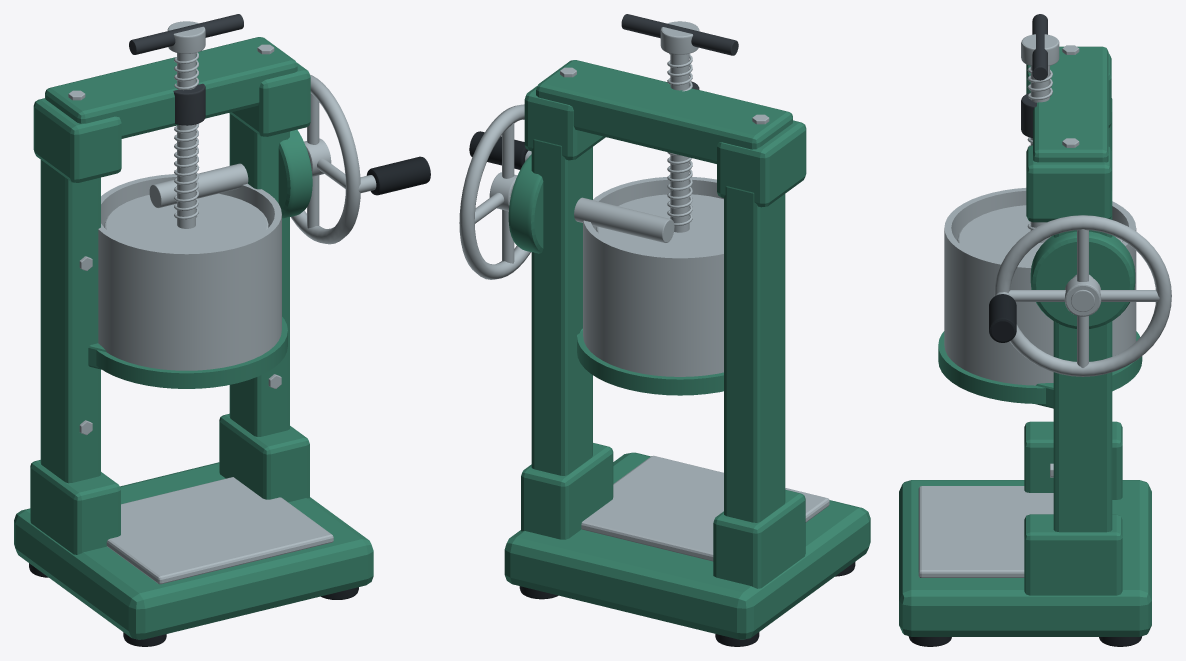
Rendered from city-hand-cranked-shaved-ice-machine.glb.
3 renders of one model, left to right at view 1: azimuth 30°, elevation 25°; view 2: azimuth 150°, elevation 25°; view 3: azimuth 270°, elevation 25°, orthographic.
Parts seen in each view (by area): view 1: Assembly | Green enamel machine body, Assembly | Brushed exposed steel, Assembly | Dark mechanism trim, Assembly | Rubber feet and hoses; view 2: Assembly | Green enamel machine body, Assembly | Brushed exposed steel, Assembly | Dark mechanism trim, Assembly | Rubber feet and hoses; view 3: Assembly | Green enamel machine body, Assembly | Brushed exposed steel, Assembly | Rubber feet and hoses, Assembly | Dark mechanism trim.
Part boxes in pixels (x1,y1,x2,y2): Assembly | Green enamel machine body: (14,37,373,639); Assembly | Brushed exposed steel: (68,21,376,584); Assembly | Dark mechanism trim: (129,14,243,125); Assembly | Rubber feet and hoses: (29,156,430,646); Assembly | Green enamel machine body: (504,60,870,639); Assembly | Brushed exposed steel: (459,21,829,561); Assembly | Dark mechanism trim: (621,14,738,89); Assembly | Rubber feet and hoses: (469,131,855,646); Assembly | Green enamel machine body: (899,46,1151,636); Assembly | Brushed exposed steel: (918,34,1171,577); Assembly | Rubber feet and hoses: (908,294,1142,646); Assembly | Dark mechanism trim: (1021,14,1047,137).
Bounding box in the file's own units: 0.4555 × 0.698 × 0.313.
